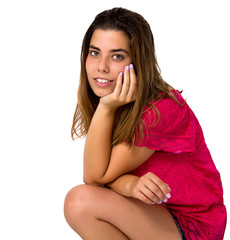teen: (75, 15, 151, 112)
